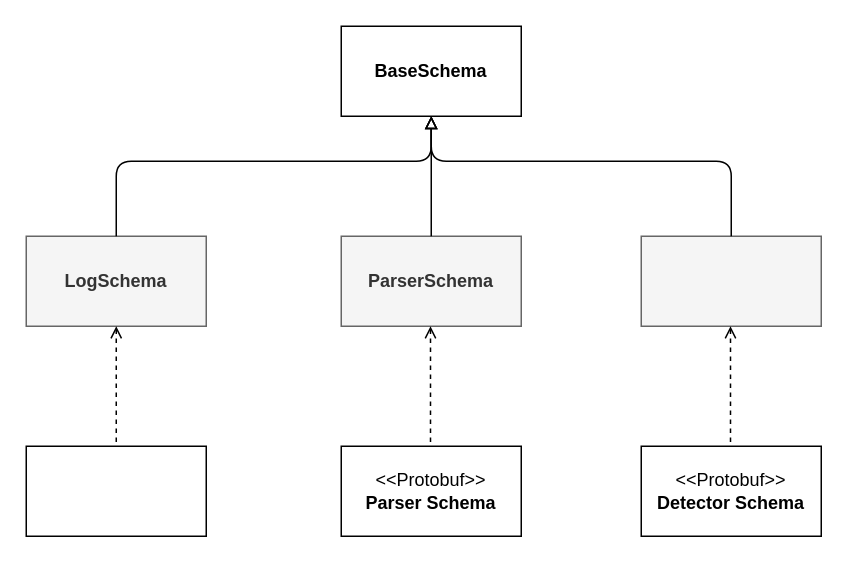
Image size: 848x563. Some labels were removed from this diagram. The centre of each missing label's shape, as x and y in pixels:
<<Protobuf>> Log Schema: point (115, 490)
DetectorSchema: point (730, 280)
